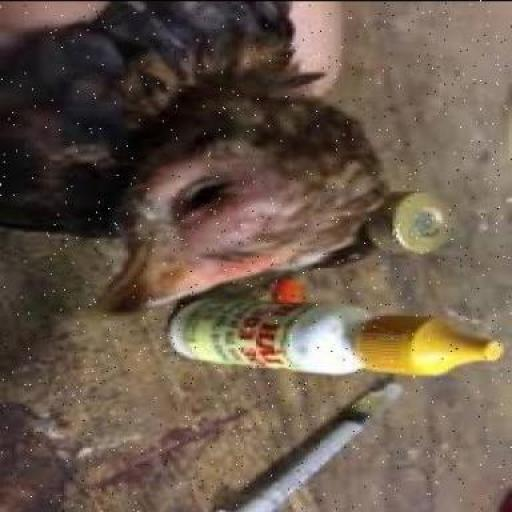disease: (133, 158, 286, 243)
